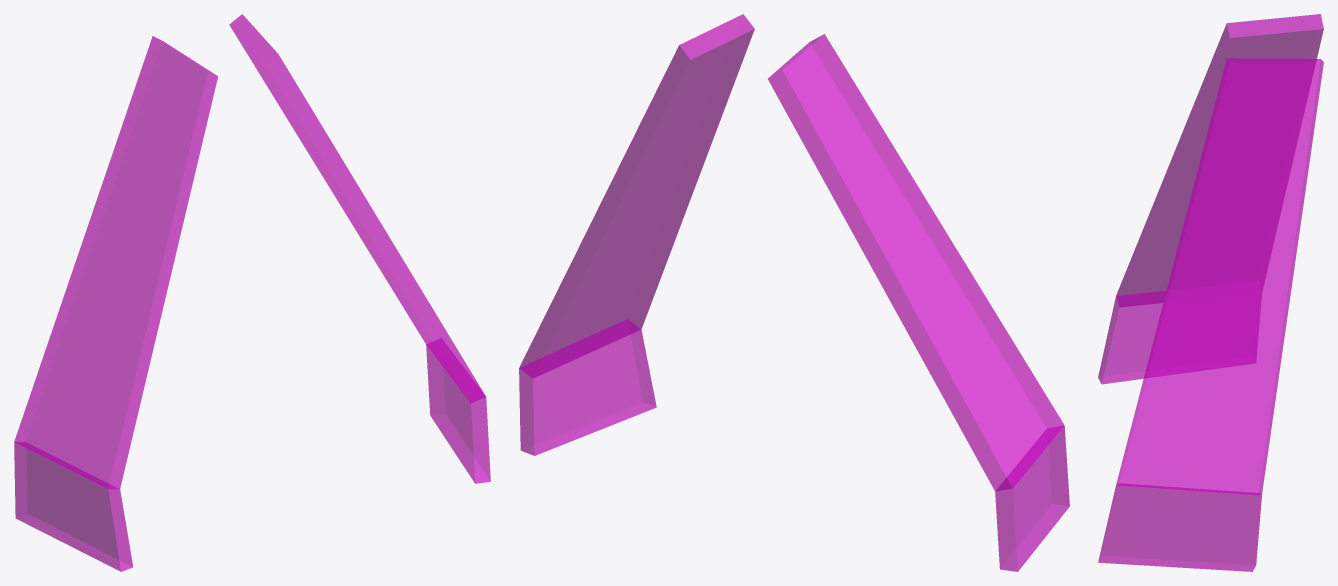
The model's file is SM_Veh_Ship_L_01_Ratlines_Front_03_Collision.fbx.
3 views of the same model, side by side, from view 1: azimuth 30°, elevation 25°; view 2: azimuth 150°, elevation 25°; view 3: azimuth 270°, elevation 25° (orthographic). The views are drawn at different scales.
Visible parts, largest first — view 1: SM_Veh_Ship_L_01_Ratlines_Front_03_Collision; view 2: SM_Veh_Ship_L_01_Ratlines_Front_03_Collision; view 3: SM_Veh_Ship_L_01_Ratlines_Front_03_Collision.
Part boxes in pixels (x1,y1,x2,y2): SM_Veh_Ship_L_01_Ratlines_Front_03_Collision: (14,14,490,571); SM_Veh_Ship_L_01_Ratlines_Front_03_Collision: (519,14,1069,571); SM_Veh_Ship_L_01_Ratlines_Front_03_Collision: (1098,14,1323,571).
Size of the model in its own units: 990 by 929 by 439.
